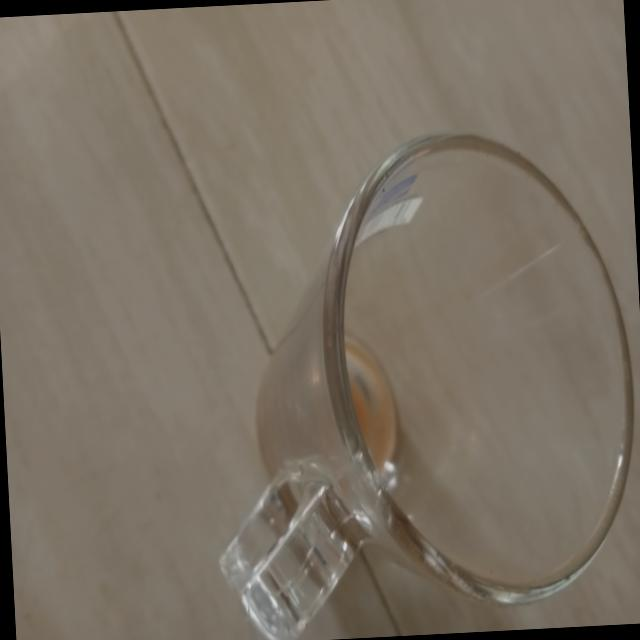glass-VX4N: (188, 123, 640, 640)
